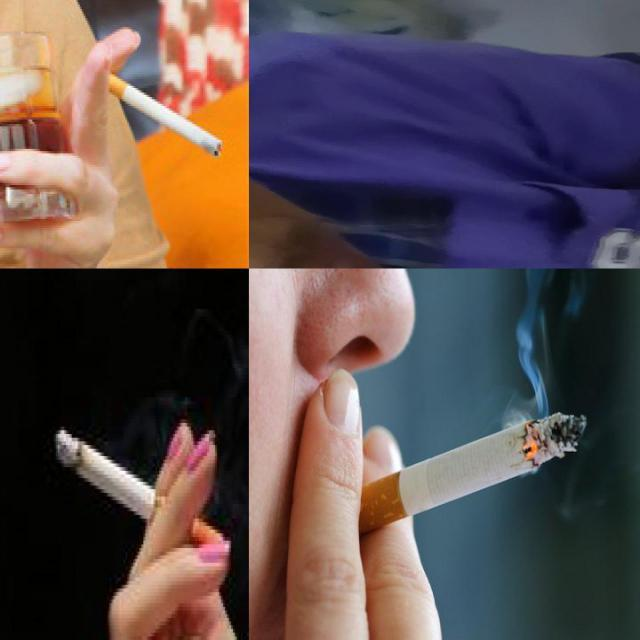smoking: (310, 412, 588, 550), (53, 426, 225, 558), (103, 70, 225, 158)
